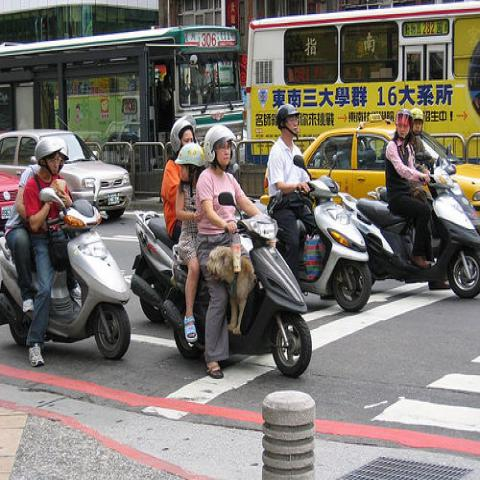bus: (239, 1, 479, 164), (2, 25, 248, 169)
car: (260, 112, 479, 214), (0, 131, 132, 223), (0, 163, 21, 227)
motorcycle: (2, 178, 131, 360), (341, 165, 479, 300), (218, 191, 314, 384), (289, 147, 374, 313), (129, 208, 174, 325)
